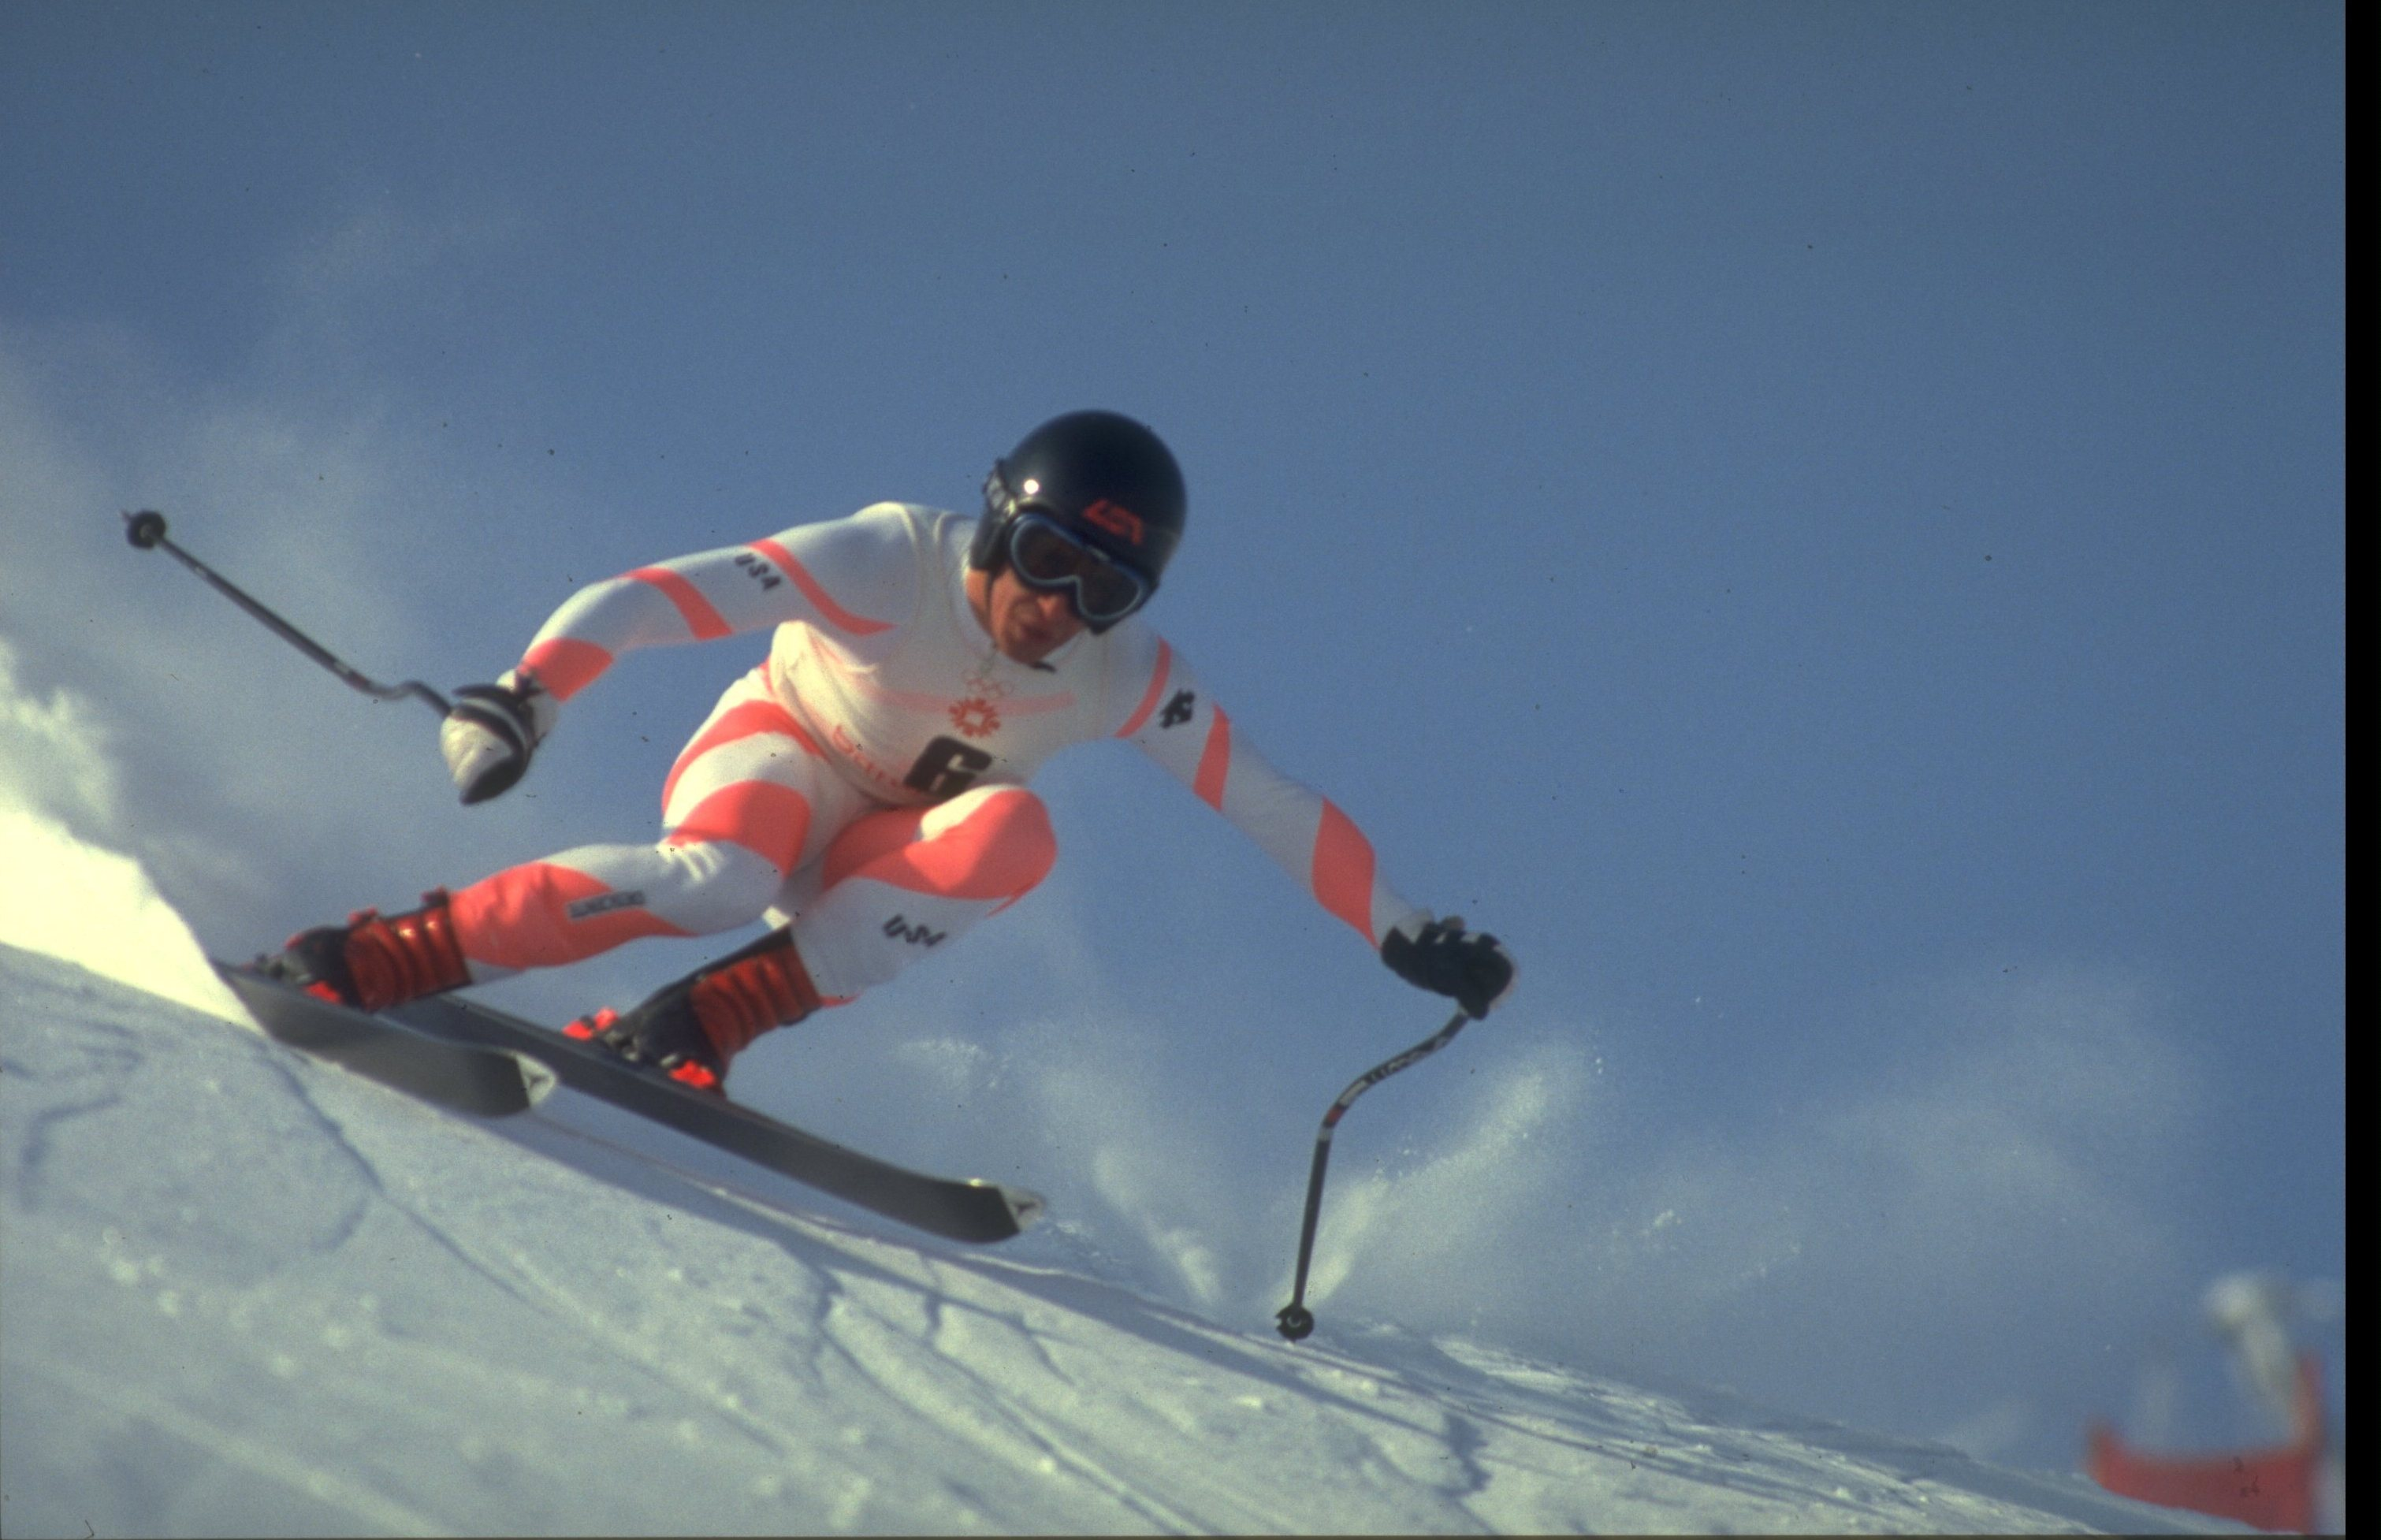skier: (66, 286, 1553, 1389)
